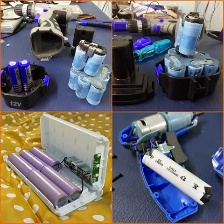battery: (139, 144, 216, 207), (36, 162, 82, 204), (24, 168, 70, 210), (178, 12, 203, 58), (27, 145, 61, 173), (5, 150, 37, 178), (79, 47, 107, 76), (19, 148, 50, 174), (180, 55, 205, 85), (6, 58, 25, 95), (199, 56, 219, 90), (16, 57, 34, 94), (84, 77, 106, 105), (166, 57, 186, 87), (74, 72, 93, 101), (71, 42, 88, 74), (68, 65, 82, 93)
plastic_box: (4, 110, 112, 220)
